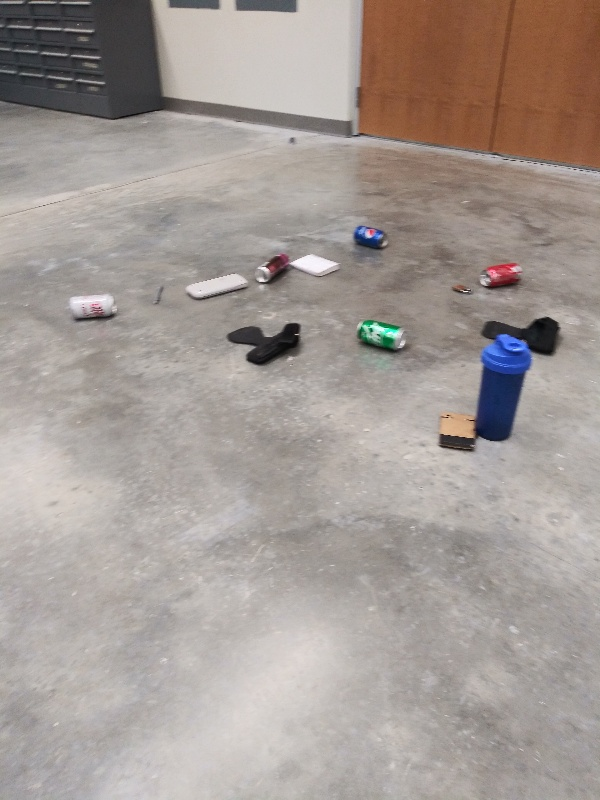can: (354, 316, 407, 355), (66, 291, 119, 319), (254, 250, 291, 287), (477, 261, 524, 290), (352, 223, 391, 250)
